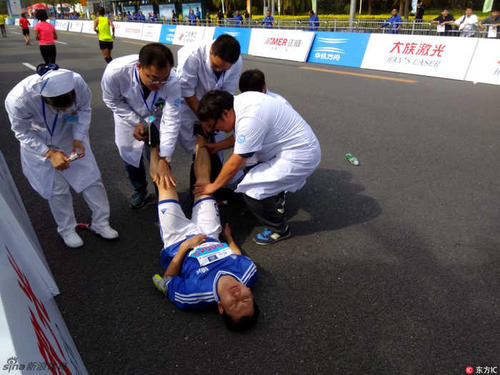10+: (2, 1, 500, 260)
down: (142, 118, 265, 329)
